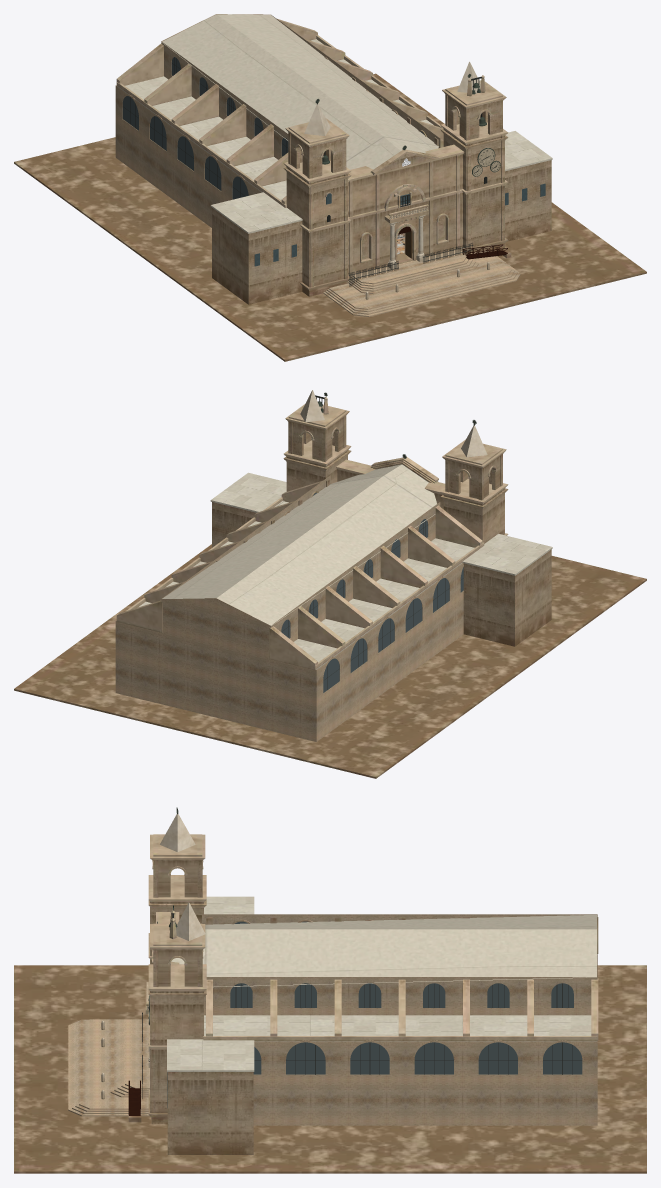
File: stjohn-D-cqny-C.glb
3 views of the same model, one above another, from view 1: azimuth 30°, elevation 25°; view 2: azimuth 150°, elevation 25°; view 3: azimuth 270°, elevation 25° (orthographic). The views are drawn at different scales.
Visible parts, largest first — view 1: Outer parapet, Longitudinal roof, Raised nave, Exterior_Rear_And_Window_Walls, Entrance_Steps_Rebuilt, Facade, Plinth, Window mullion, Wing window; view 2: Outer parapet, Exterior_Rear_And_Window_Walls, Longitudinal roof, Raised nave, Plinth; view 3: Outer parapet, Exterior_Rear_And_Window_Walls, Longitudinal roof, Raised nave, Entrance_Steps_Rebuilt, Plinth.
Boxes of the visible parts, box(x1,y1,x2,y2) form: Outer parapet: box(14, 19, 646, 361); Longitudinal roof: box(117, 14, 552, 233); Raised nave: box(212, 94, 551, 304); Exterior_Rear_And_Window_Walls: box(115, 14, 440, 227); Entrance_Steps_Rebuilt: box(323, 250, 520, 316); Facade: box(348, 154, 462, 274); Plinth: box(304, 61, 489, 299); Window mullion: box(324, 77, 499, 286); Wing window: box(254, 183, 545, 266); Outer parapet: box(14, 397, 646, 778); Exterior_Rear_And_Window_Walls: box(115, 475, 463, 741); Longitudinal roof: box(138, 464, 552, 669); Raised nave: box(212, 415, 551, 646); Plinth: box(300, 390, 487, 457); Outer parapet: box(14, 834, 646, 1173); Exterior_Rear_And_Window_Walls: box(202, 914, 597, 1125); Longitudinal roof: box(167, 896, 597, 1071); Raised nave: box(150, 860, 597, 1154); Entrance_Steps_Rebuilt: box(68, 1019, 149, 1116); Plinth: box(101, 814, 205, 1099).
Size of the model in its own units: 54 by 26.64 by 70.
58 materials, 55 textured.
